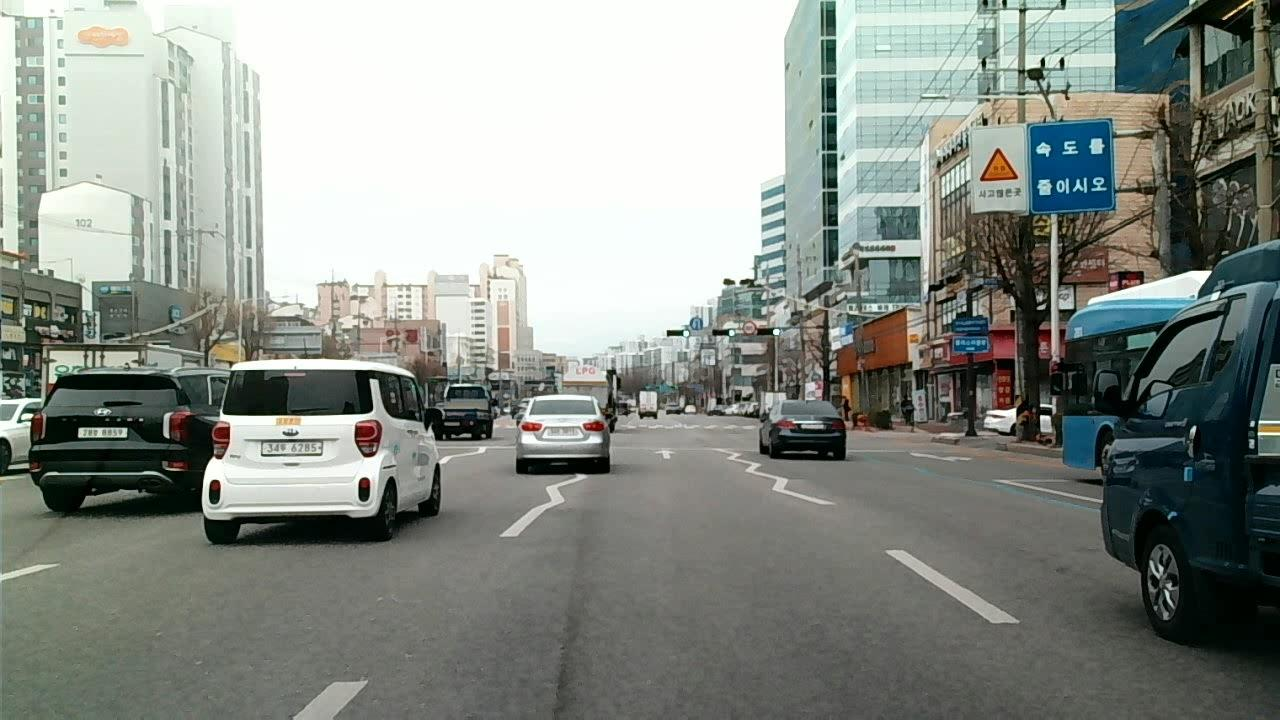banner: (551, 574, 579, 720)
